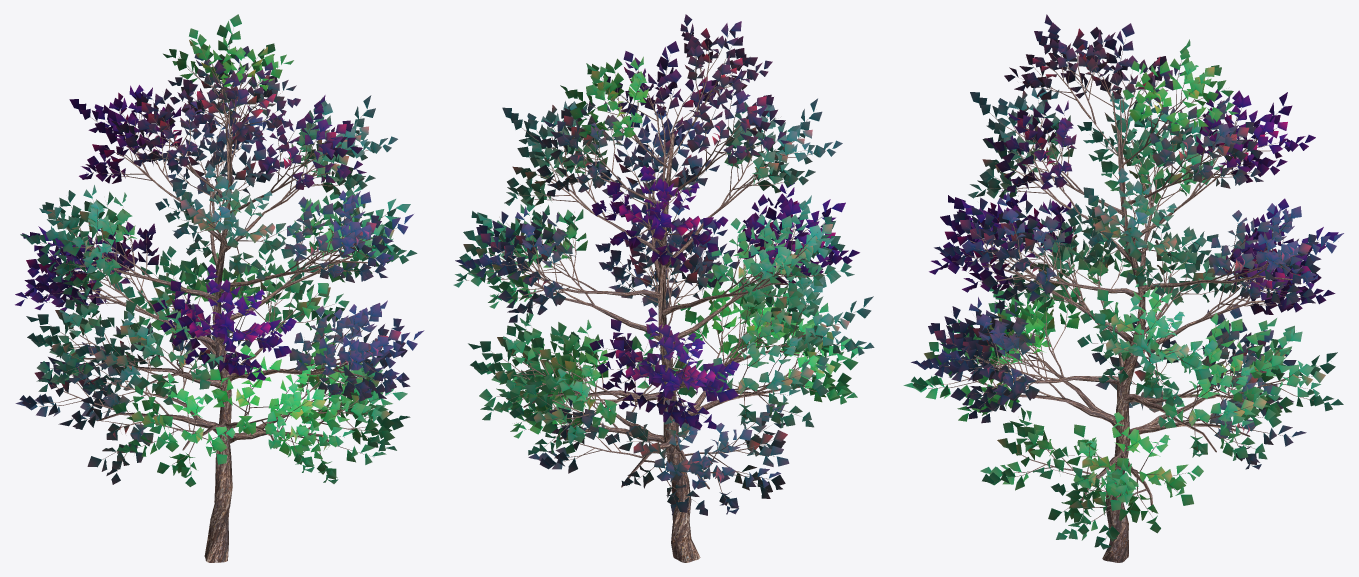
Rendered from maple.fbx.
3 renders of one model, left to right at view 1: azimuth 30°, elevation 25°; view 2: azimuth 150°, elevation 25°; view 3: azimuth 270°, elevation 25°, orthographic. The views are drawn at different scales.
Visible parts, largest first — view 1: Tree_1, Tree_0; view 2: Tree_1, Tree_0; view 3: Tree_1, Tree_0.
Boxes of the visible parts, left/top/right/bottom form: Tree_1: left=15, top=14, right=424, bottom=486; Tree_0: left=27, top=33, right=405, bottom=562; Tree_1: left=453, top=14, right=874, bottom=515; Tree_0: left=466, top=31, right=856, bottom=562; Tree_1: left=903, top=14, right=1343, bottom=549; Tree_0: left=917, top=35, right=1324, bottom=562.
Bounding box in the file's own units: 293 × 389 × 292.
1 material, 1 textured.
